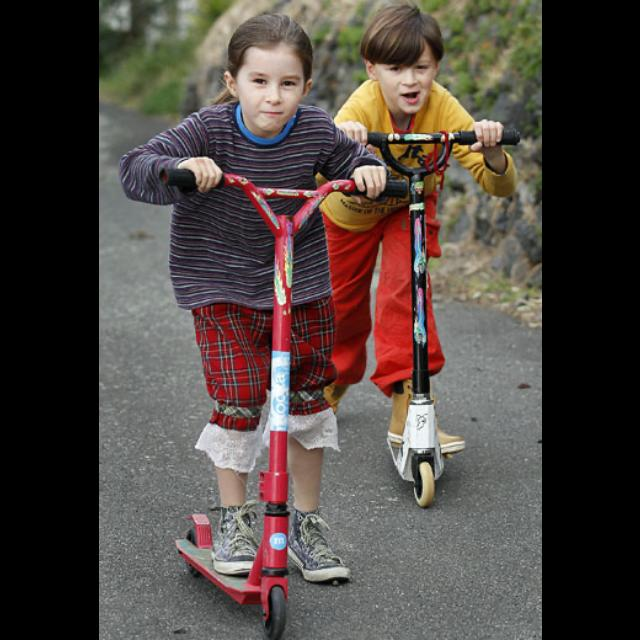Without Helmet: (217, 7, 317, 139), (355, 5, 447, 110)
